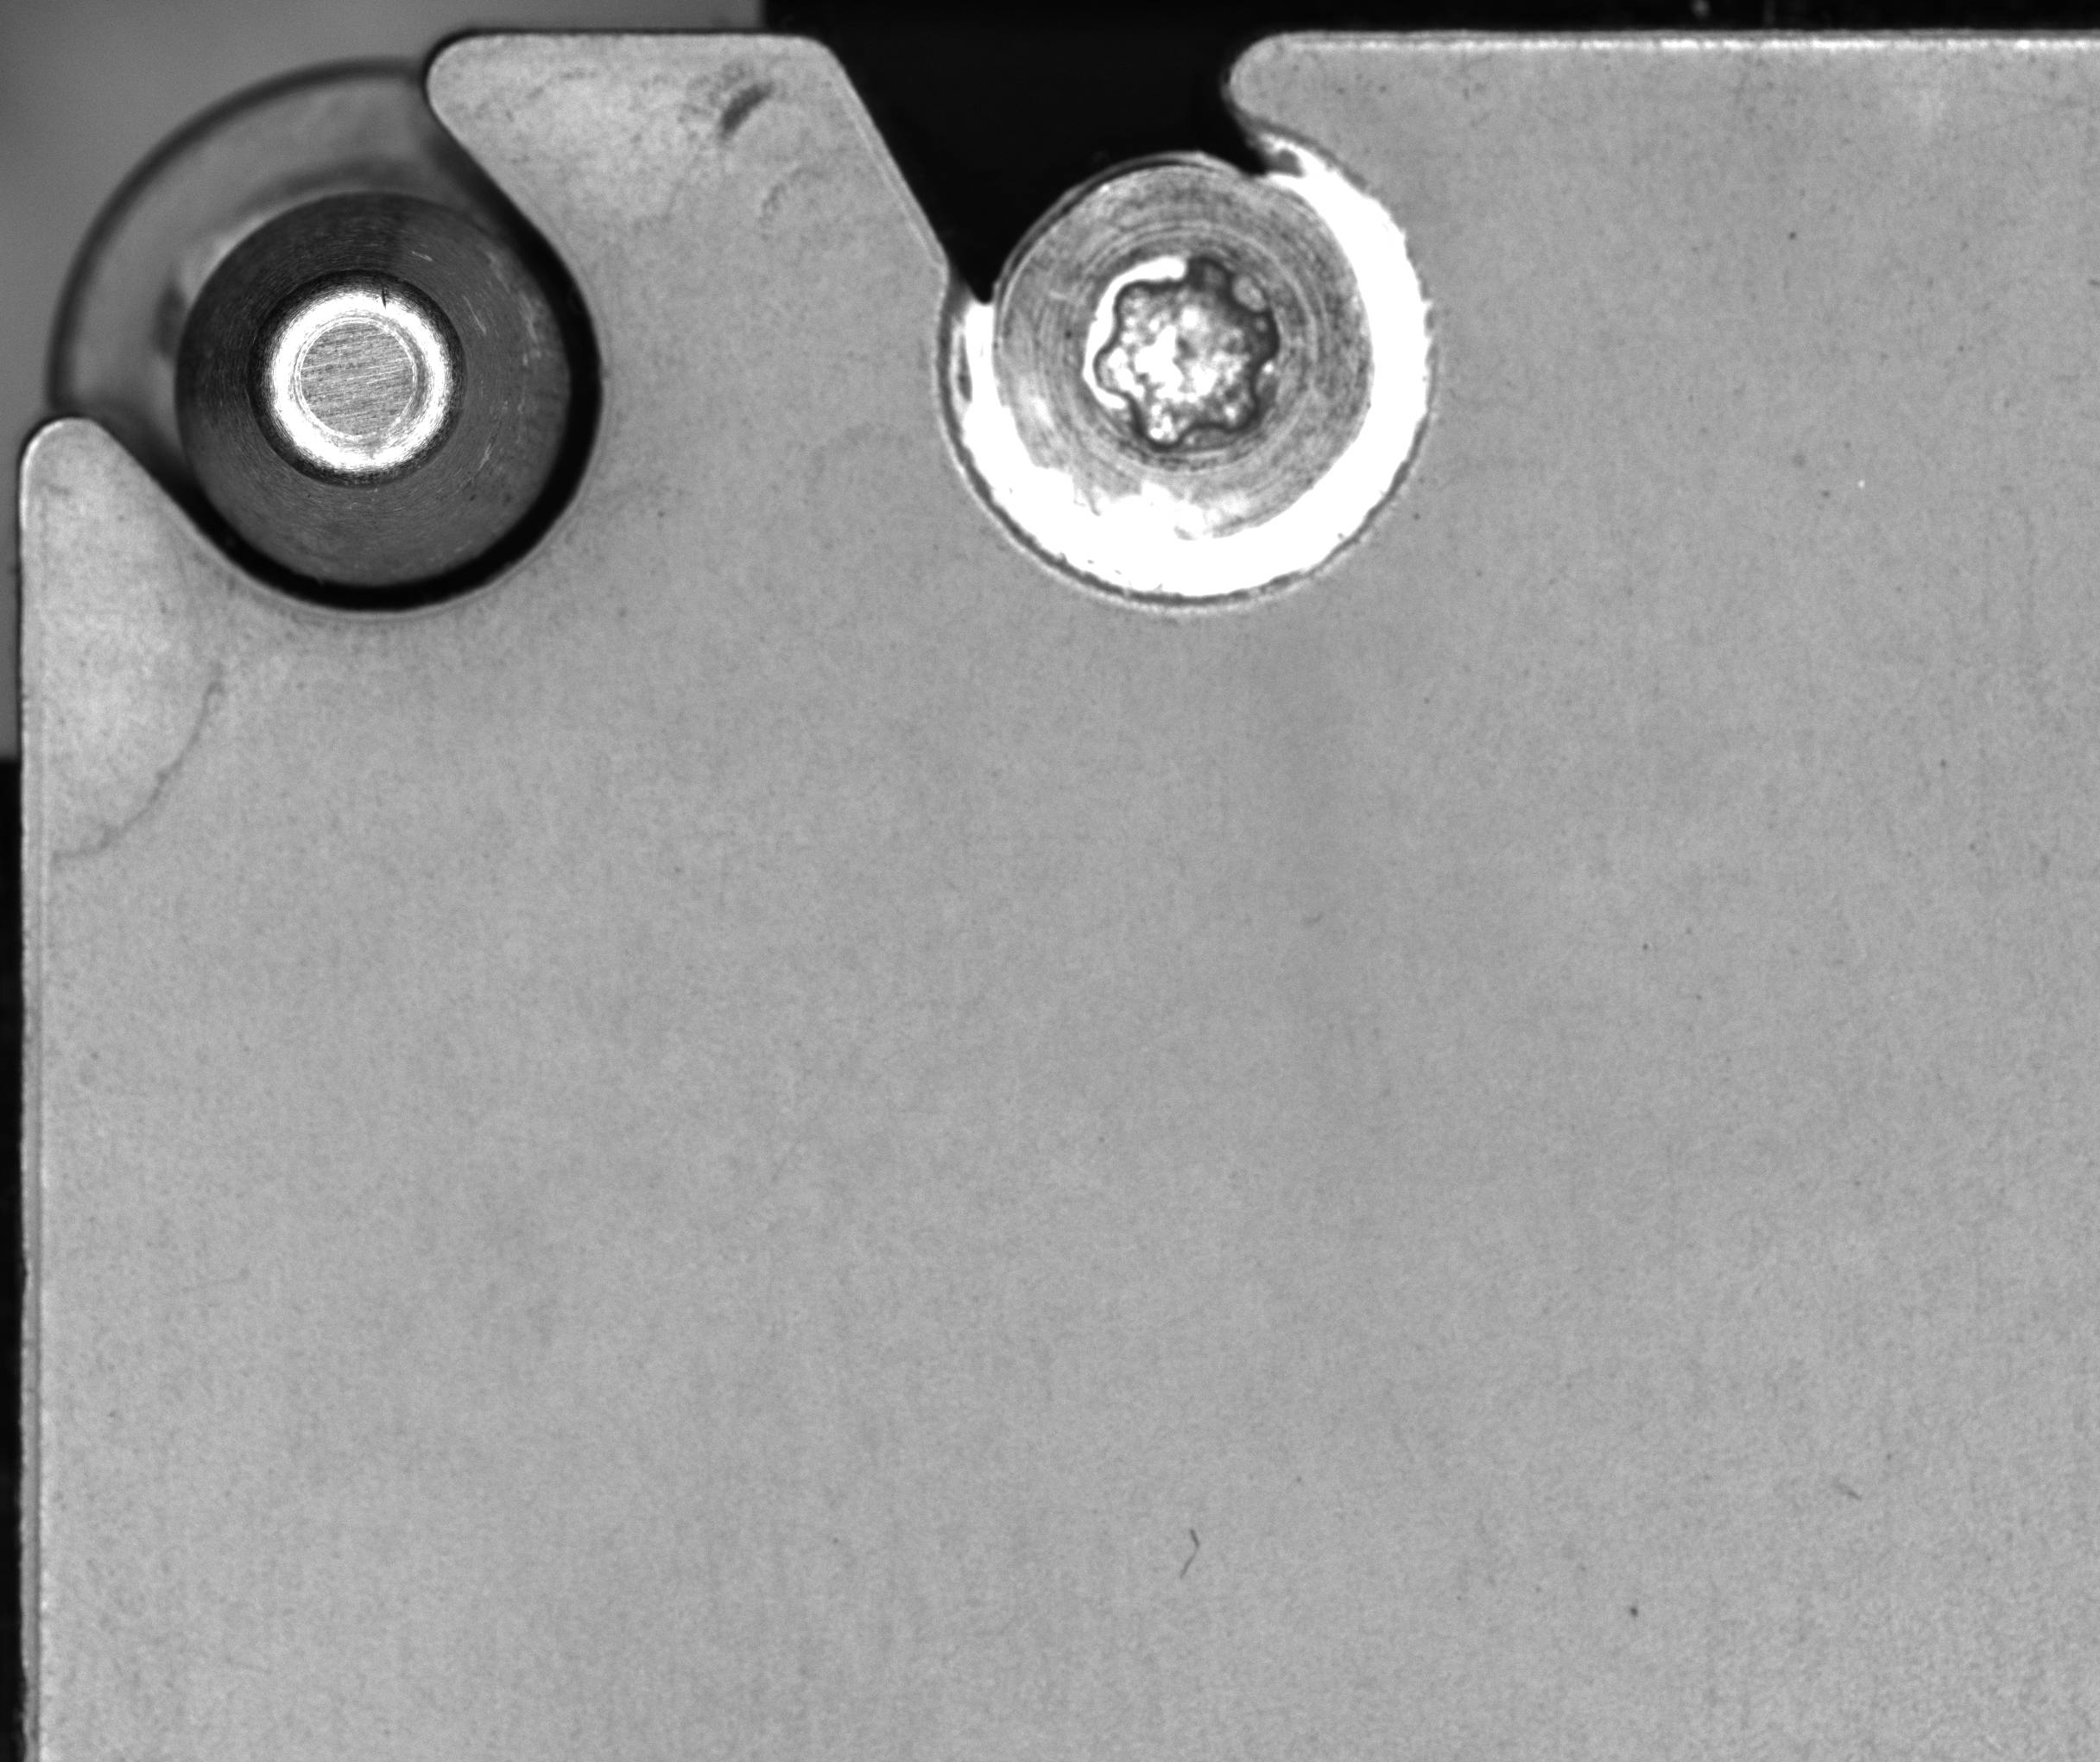fiber: (49, 657, 225, 865), (1178, 1523, 1204, 1580)
foreign: (715, 75, 776, 140)
spot: (1786, 227, 1800, 241), (1628, 1603, 1641, 1619)
